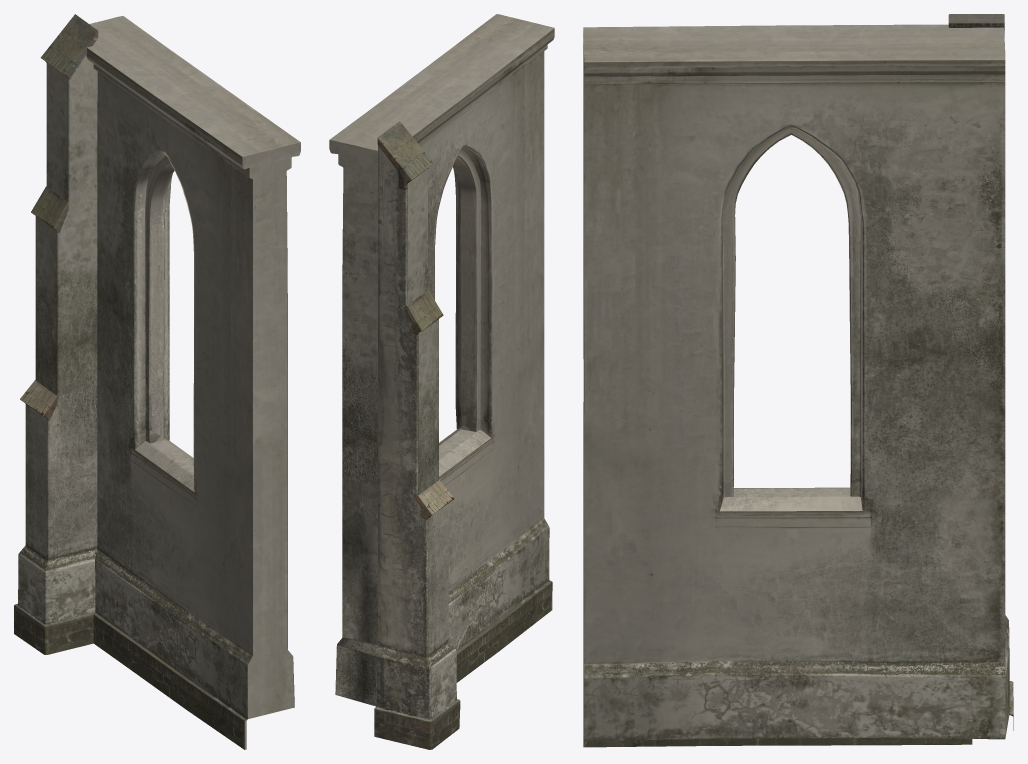
File: sm_Church_01_33.fbx
3 renders of one model, left to right at view 1: azimuth 30°, elevation 25°; view 2: azimuth 150°, elevation 25°; view 3: azimuth 270°, elevation 25°, orthographic. The views are drawn at different scales.
Parts seen in each view (by area): view 1: sm_Church_01_33_LOD0; view 2: sm_Church_01_33_LOD0; view 3: sm_Church_01_33_LOD0.
Boxes of the visible parts, x1,y1,x2,y2 form: sm_Church_01_33_LOD0: (14,14,300,749); sm_Church_01_33_LOD0: (329,14,554,749); sm_Church_01_33_LOD0: (583,14,1013,747).
Size of the model in its own units: 119 by 330 by 621.
